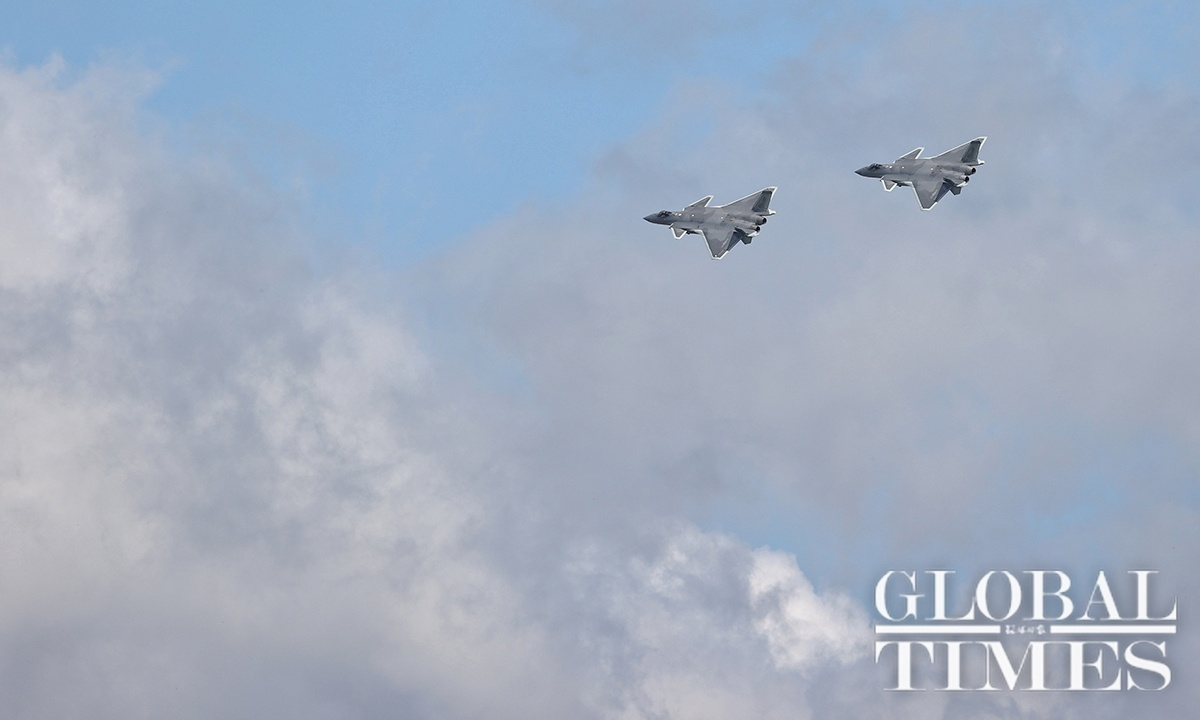J20: (642, 186, 779, 261), (853, 136, 988, 212)
